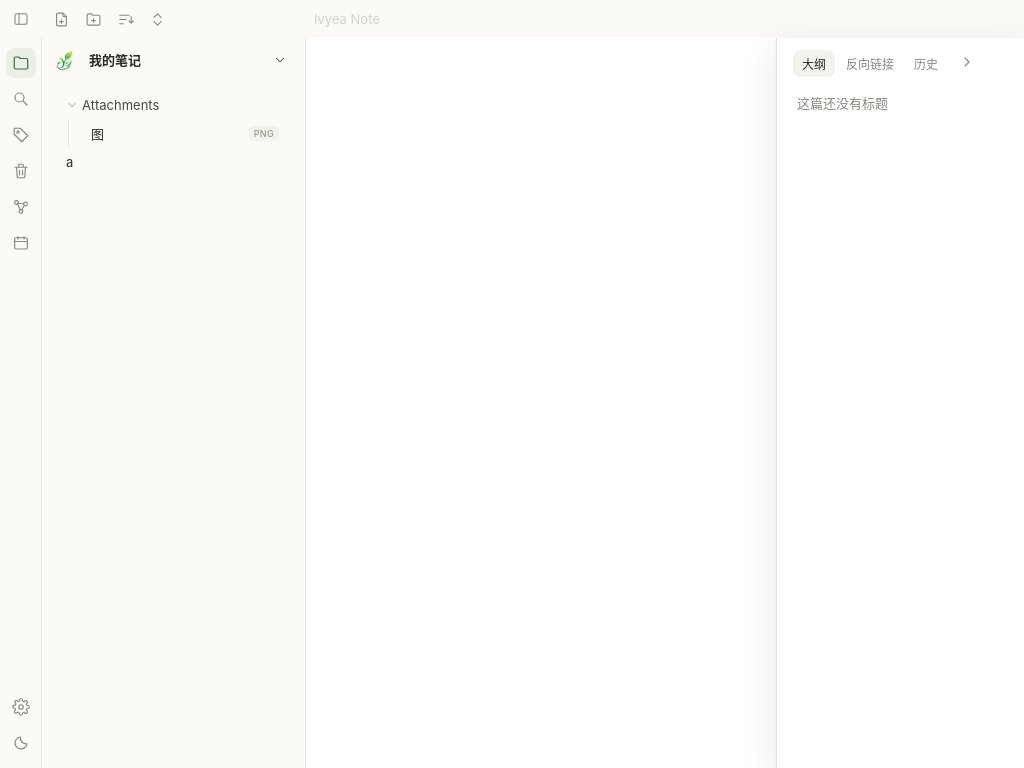
右键上下文菜单（E3） › 点开库里的图片 → 在主区里看（侧栏还在），不是全屏蒙层
Click the element with class "ft-file" showing "图 PNG": point(264, 134) [91,126,279,142]
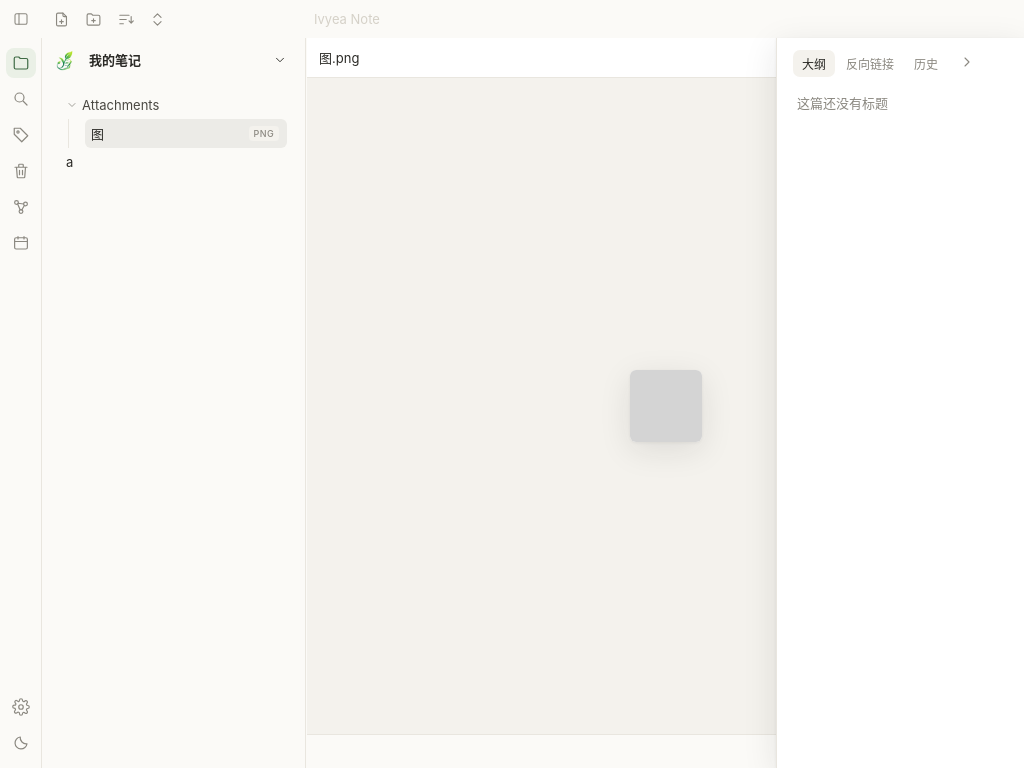
Expected: the element with class "img-pane" is shown
Expected: the element with class "editor-split" is gone
Expected: the text "图.png" is shown, [319,48,359,67]
